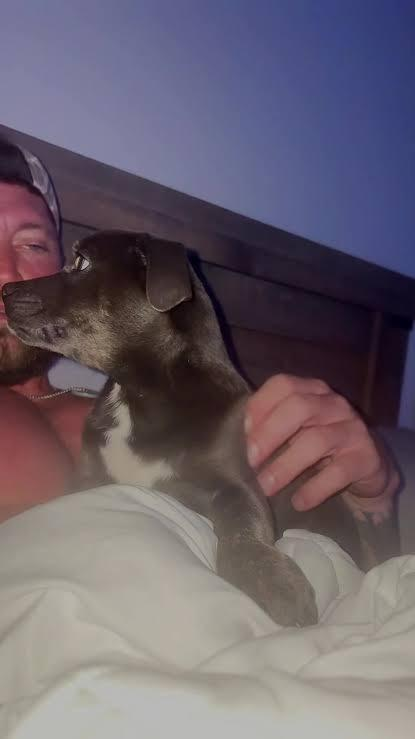non-dog: (0, 127, 399, 549)
puppy-dog: (1, 230, 372, 628)
